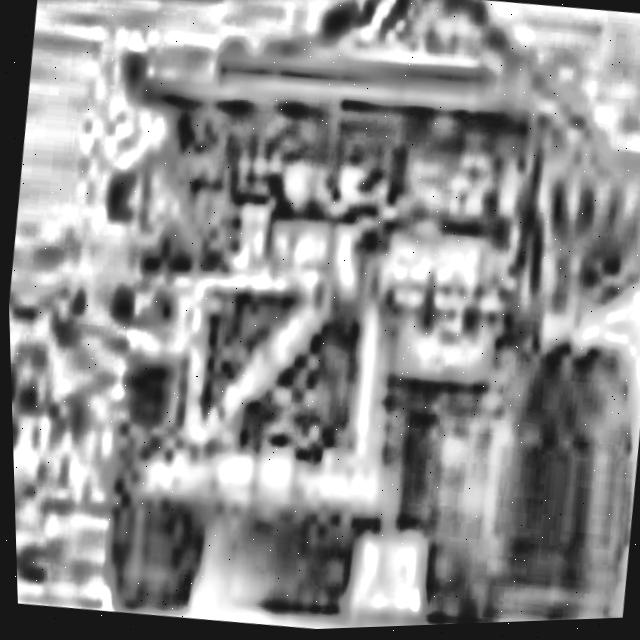dump_truck: (24, 0, 640, 639)
